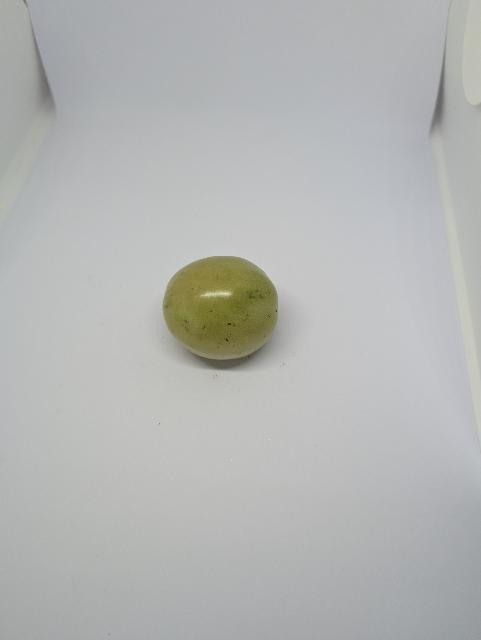green: (157, 250, 285, 369)
